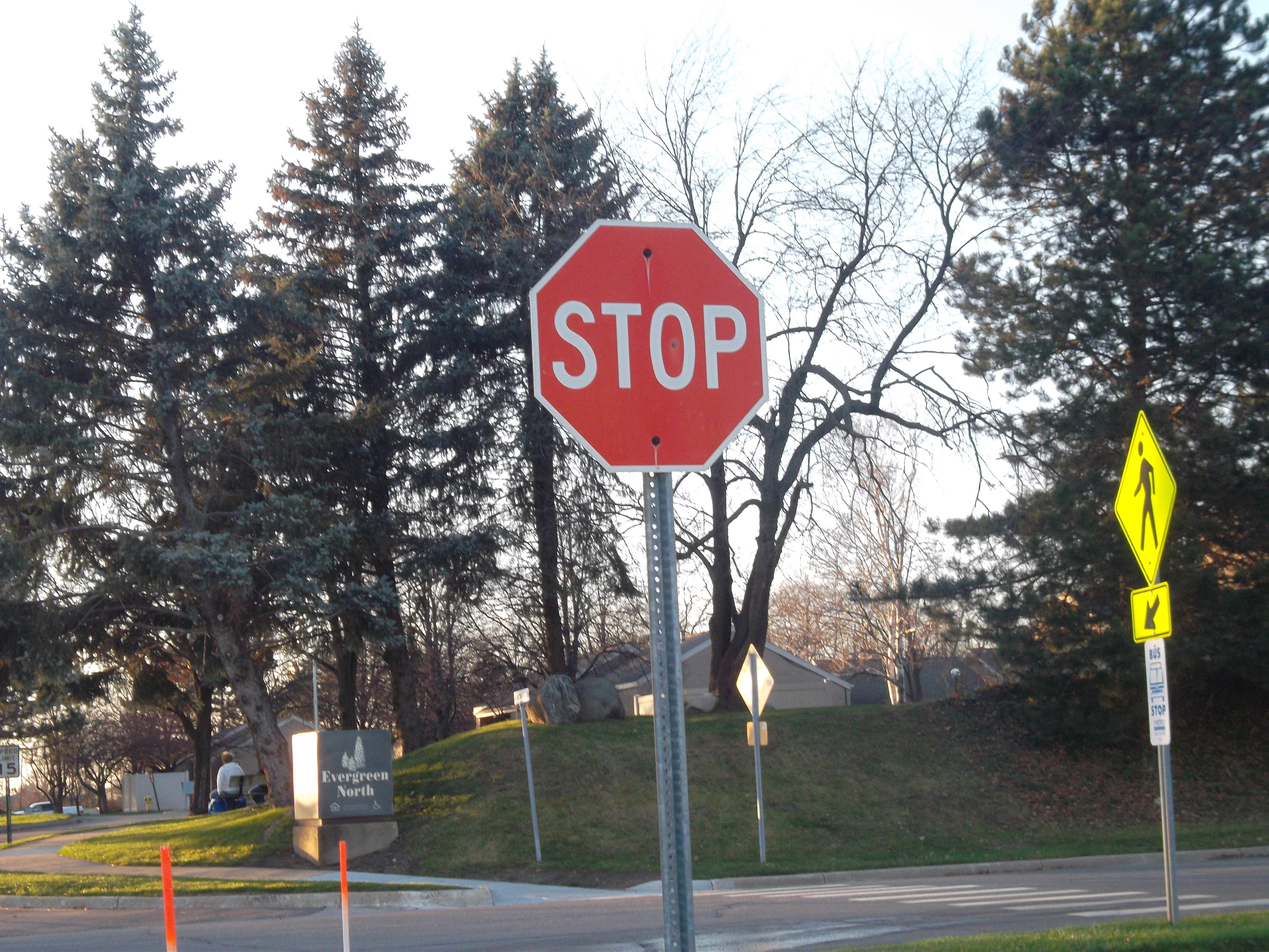Pedestrian Crossing: (1142, 409, 1201, 577)
Stop: (538, 224, 765, 470)
